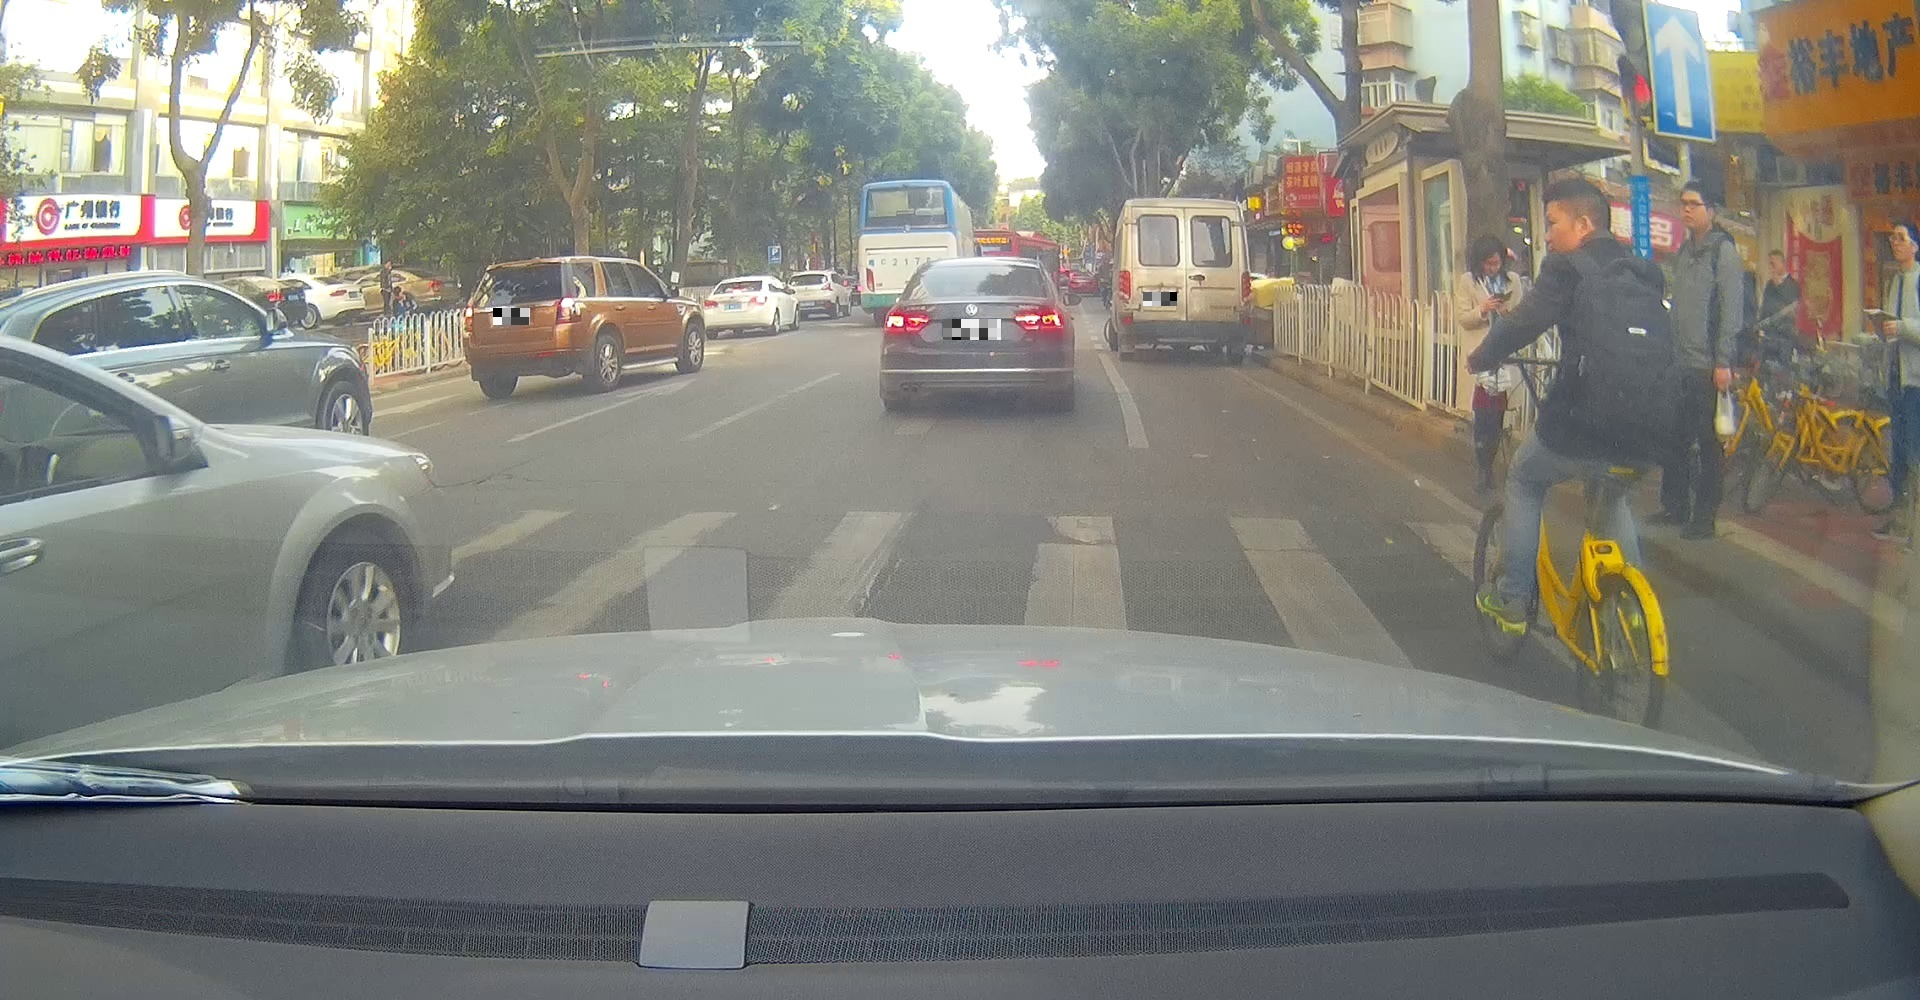L_light: (881, 308, 930, 335), (1116, 270, 1131, 301), (462, 305, 475, 332), (703, 299, 720, 308)
R_light: (1012, 307, 1065, 334), (552, 296, 583, 325), (1239, 269, 1255, 305), (747, 294, 770, 306)
T_light: (507, 266, 532, 272), (1176, 206, 1197, 211), (963, 291, 987, 294), (731, 289, 744, 294)
day-brake: (880, 258, 1065, 410), (461, 256, 587, 398), (703, 275, 770, 340)
day-no: (1114, 197, 1253, 360)
plate_1: (943, 319, 1001, 340), (493, 308, 530, 325)
plate_3: (1143, 292, 1177, 306)
